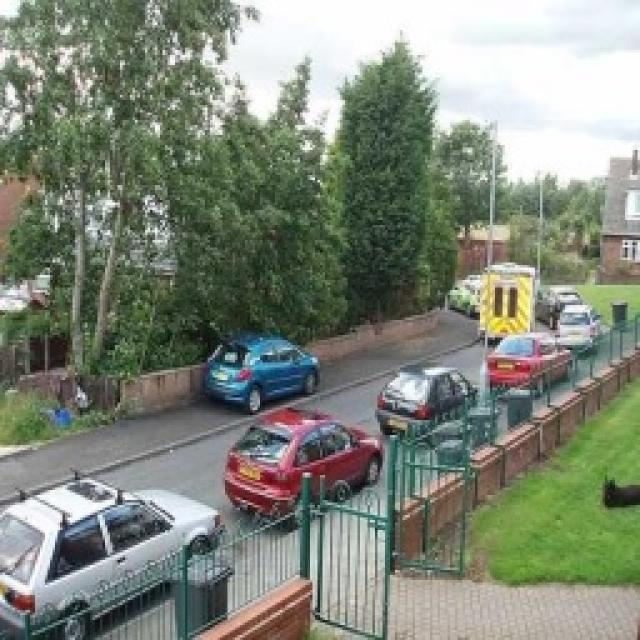emergency-vehicle: (477, 257, 539, 344)
